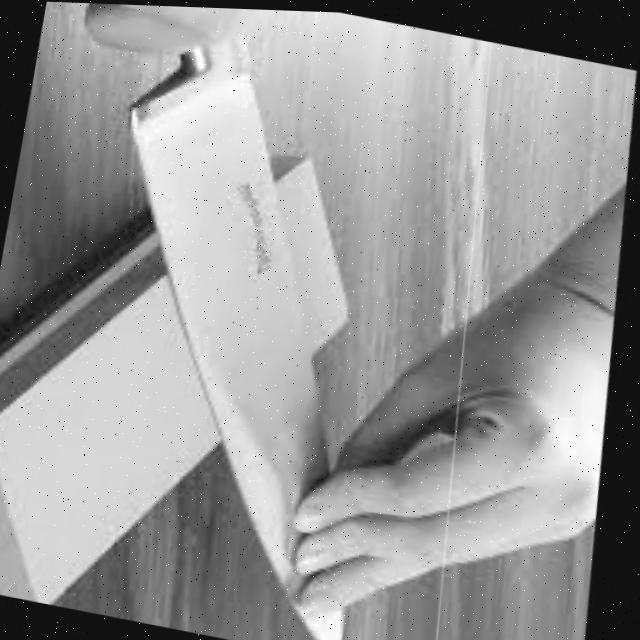knife: (41, 8, 448, 640)
